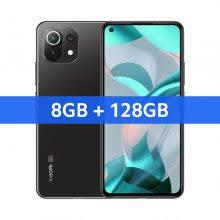Smartphone: (107, 22, 186, 194), (38, 20, 103, 198)
